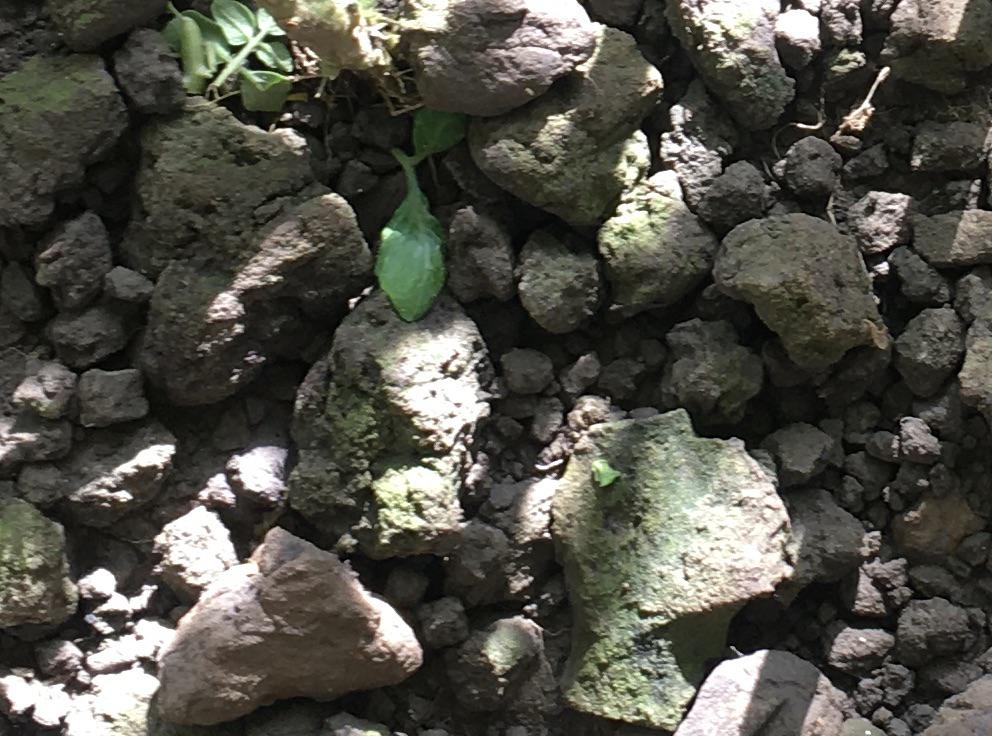block: (549, 407, 803, 733), (130, 87, 381, 407), (288, 278, 492, 549), (148, 527, 425, 725), (461, 23, 660, 233), (713, 212, 891, 378), (1, 51, 125, 229)
